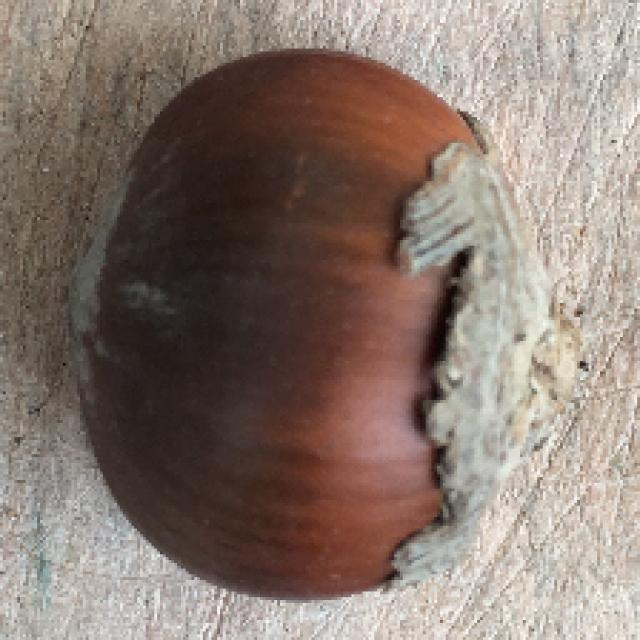damagedHazelnut: (61, 42, 544, 592)
